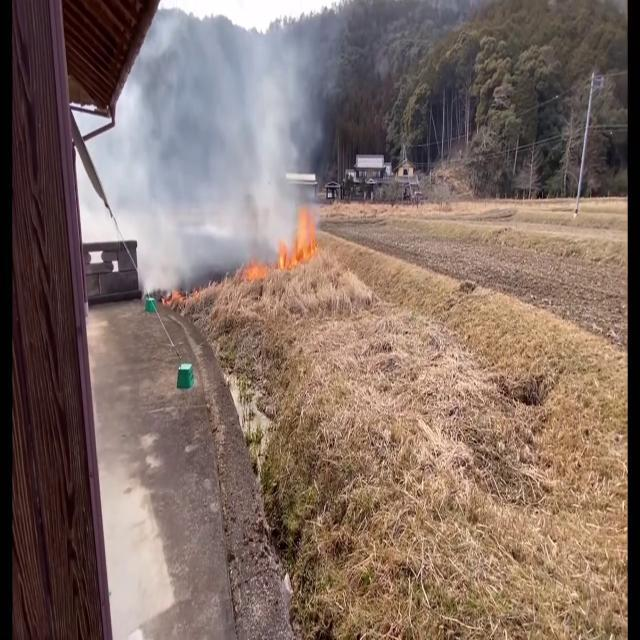Fire: (284, 196, 320, 272)
Smoke: (107, 0, 325, 294)
